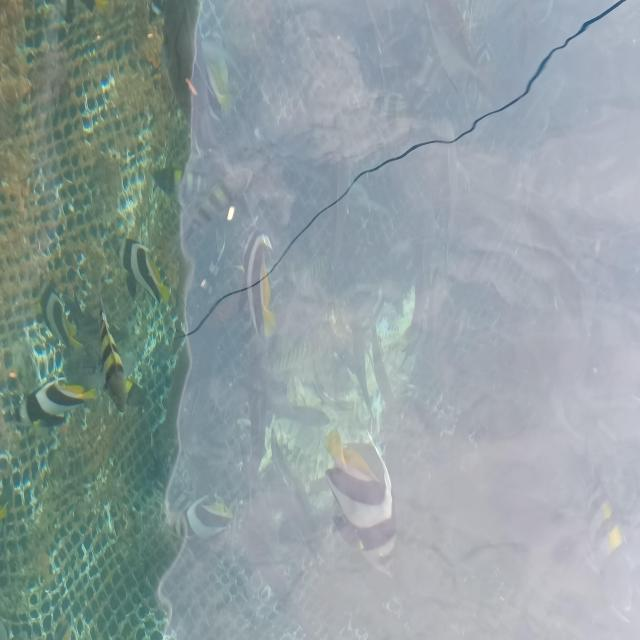ikan: (316, 403, 408, 575), (229, 222, 301, 354), (116, 218, 182, 330), (17, 358, 90, 438)
